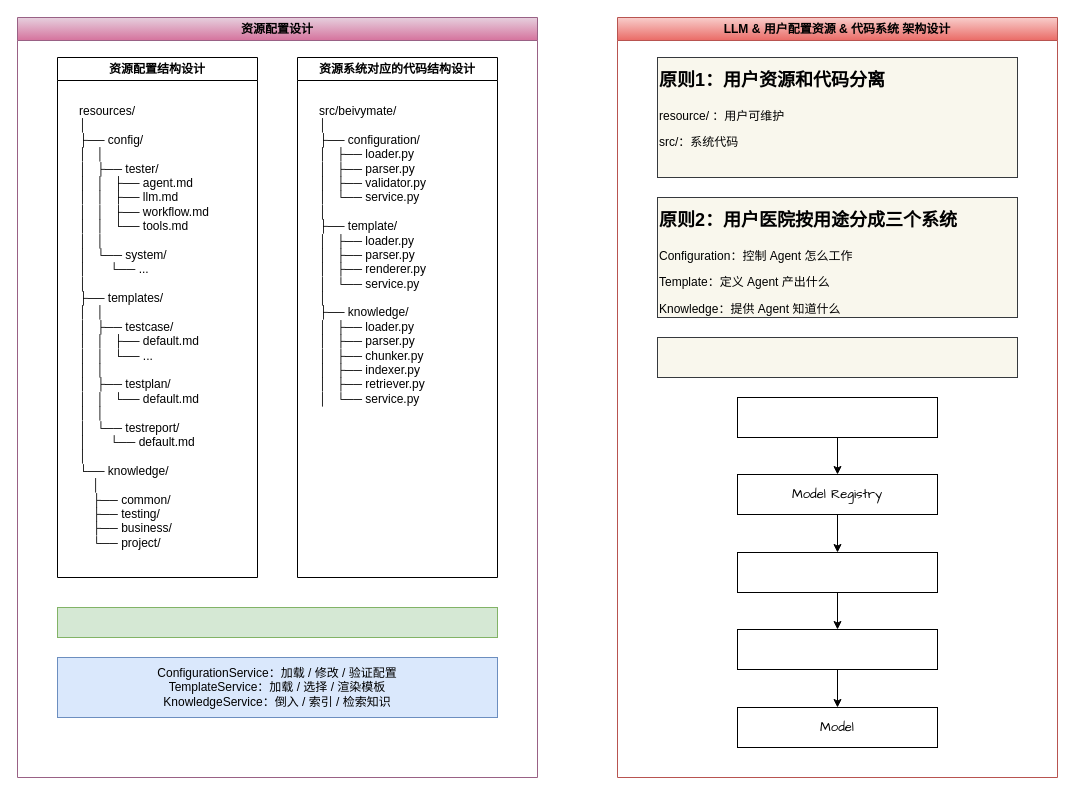
This 1075x795 diagram has some shape labels left out. Each missing label, with the centre of its shape:
"Config：怎么工作；Template：产出什么；knowledge：知道什么" goes at point 277,622.
"LLM Gateway" goes at point 837,572.
"Provider" goes at point 837,649.
"User Model Configuration" goes at point 837,417.
"原则3：模型需用户可配置" goes at point 837,357.
